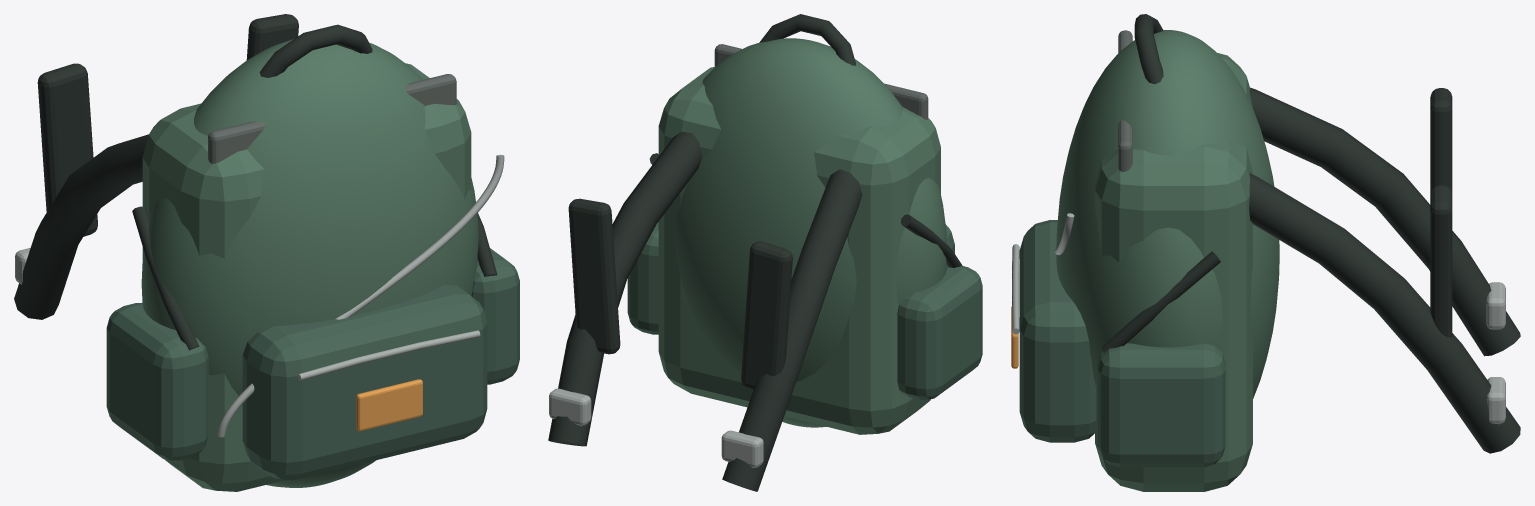
The model's file is everyday_backpack.glb.
3 renders of one model, left to right at view 1: azimuth 30°, elevation 25°; view 2: azimuth 150°, elevation 25°; view 3: azimuth 270°, elevation 25°, orthographic. The views are drawn at different scales.
Visible parts, largest first — view 1: Backpack_MainShell, Backpack_FrontPocket, Backpack_MainPanel, Backpack_LeftSidePocket, Backpack_LeftShoulderStrap, Backpack_LeftStrapPad, Backpack_RightSidePocket, Backpack_BackContact, Backpack_StudioLabel, Backpack_MainZipper, Backpack_TopHandle, Backpack_LeftCompressionStrap (+3 smaller); view 2: Backpack_MainShell, Backpack_MainPanel, Backpack_LeftShoulderStrap, Backpack_LeftSidePocket, Backpack_RightShoulderStrap, Backpack_RightStrapPad, Backpack_LeftStrapPad, Backpack_RightSidePocket, Backpack_TopHandle, Backpack_LeftAdjuster, Backpack_RightAdjuster, Backpack_BackContact (+1 smaller); view 3: Backpack_MainShell, Backpack_MainPanel, Backpack_RightSidePocket, Backpack_RightShoulderStrap, Backpack_LeftShoulderStrap, Backpack_FrontPocket, Backpack_RightStrapPad, Backpack_LeftStrapPad, Backpack_RightCompressionStrap, Backpack_TopHandle, Backpack_BackContact, Backpack_LeftAdjuster (+2 smaller).
Part boxes in pixels (x1,y1,x2,y2): Backpack_MainShell: (141, 39, 478, 487); Backpack_FrontPocket: (242, 284, 487, 479); Backpack_MainPanel: (142, 63, 471, 491); Backpack_LeftSidePocket: (106, 303, 208, 460); Backpack_LeftShoulderStrap: (14, 134, 148, 319); Backpack_LeftStrapPad: (37, 63, 97, 236); Backpack_RightSidePocket: (471, 248, 519, 384); Backpack_BackContact: (208, 74, 456, 163); Backpack_StudioLabel: (356, 379, 422, 431); Backpack_MainZipper: (217, 154, 504, 437); Backpack_TopHandle: (259, 24, 372, 77); Backpack_LeftCompressionStrap: (132, 206, 198, 350); Backpack_MainShell: (658, 38, 946, 427); Backpack_MainPanel: (658, 66, 940, 434); Backpack_LeftShoulderStrap: (722, 169, 862, 491); Backpack_LeftSidePocket: (897, 265, 982, 399); Backpack_RightShoulderStrap: (548, 132, 702, 446); Backpack_RightStrapPad: (568, 198, 620, 354); Backpack_LeftStrapPad: (741, 241, 792, 389); Backpack_RightSidePocket: (627, 222, 658, 334); Backpack_TopHandle: (759, 14, 855, 65); Backpack_LeftAdjuster: (721, 430, 763, 467); Backpack_RightAdjuster: (549, 388, 591, 425); Backpack_BackContact: (714, 44, 928, 119); Backpack_MainShell: (1056, 30, 1279, 398); Backpack_MainPanel: (1095, 53, 1252, 491); Backpack_RightSidePocket: (1098, 343, 1225, 467); Backpack_RightShoulderStrap: (1249, 173, 1520, 453); Backpack_LeftShoulderStrap: (1249, 87, 1520, 356); Backpack_FrontPocket: (1019, 220, 1096, 442); Backpack_RightStrapPad: (1430, 185, 1452, 337); Backpack_LeftStrapPad: (1430, 88, 1452, 193); Backpack_RightCompressionStrap: (1102, 251, 1220, 352); Backpack_TopHandle: (1134, 14, 1163, 83); Backpack_BackContact: (1118, 30, 1132, 171); Backpack_LeftAdjuster: (1486, 282, 1505, 329).
Size of the model in its own units: 0.3332 by 0.403 by 0.4193.
